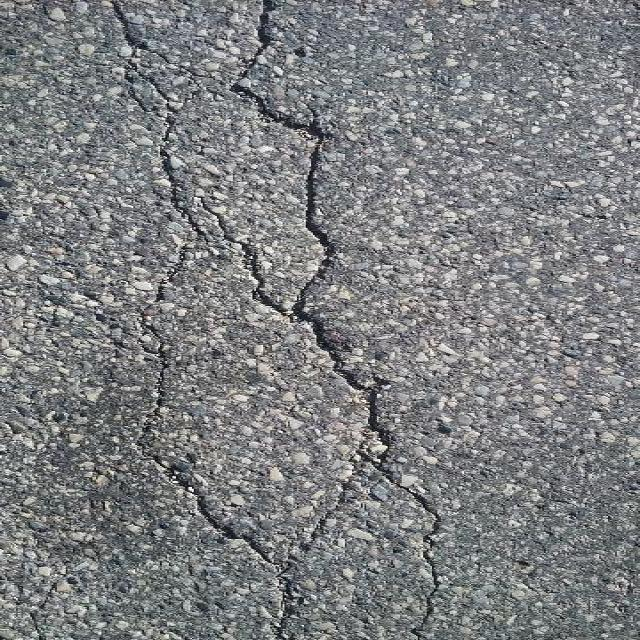GRIETA: (404, 489, 440, 634), (270, 579, 292, 639)
PIEL DE COCODRILO: (104, 1, 404, 574)
